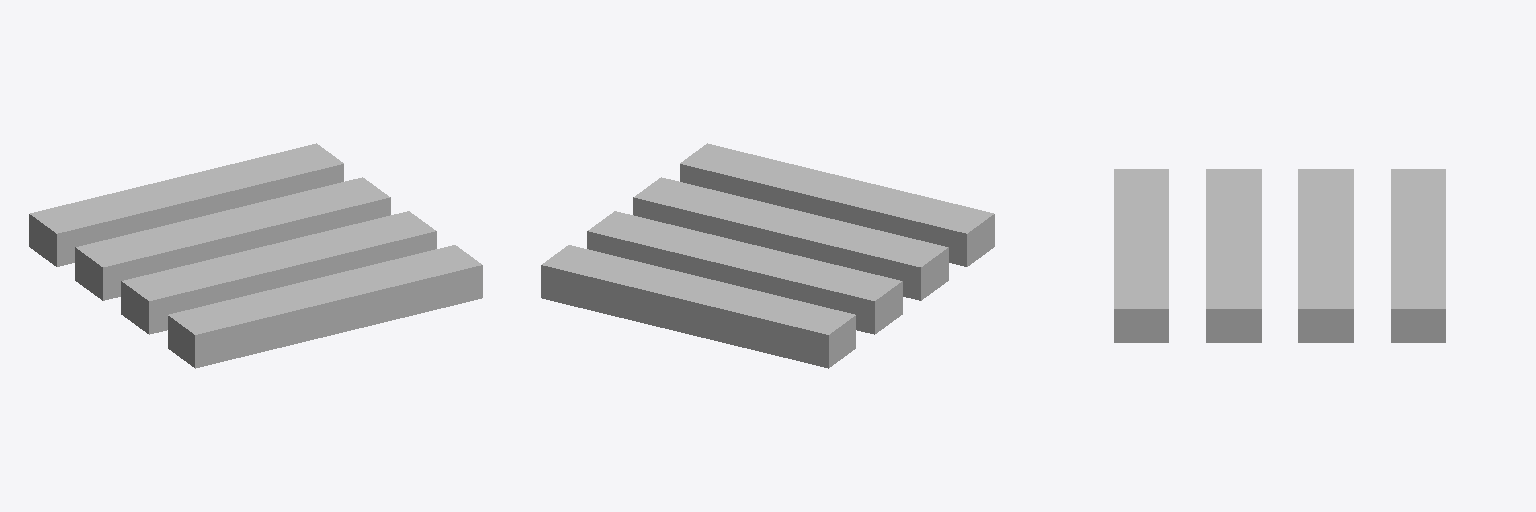
File: Wheat Field.obj
The picture shows the model from 3 angles: view 1: azimuth 30°, elevation 25°; view 2: azimuth 150°, elevation 25°; view 3: azimuth 270°, elevation 25°; orthographic projection.
Visible parts, largest first — view 1: cuboid; view 2: cuboid; view 3: cuboid.
Boxes of the visible parts, x1=… form: cuboid: x1=29, y1=143, x2=482, y2=368; cuboid: x1=541, y1=143, x2=994, y2=368; cuboid: x1=1114, y1=169, x2=1445, y2=342.
Size of the model in its own units: 1.12 by 0.125 by 1.12.